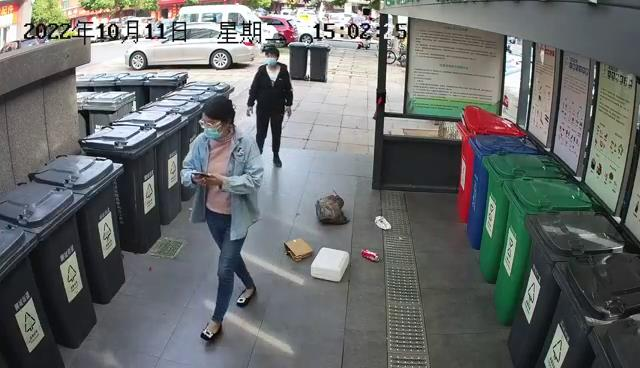lvzhipin: (360, 247, 380, 264), (374, 214, 392, 232)
paomozhipin: (310, 245, 349, 285)
person: (246, 45, 294, 167)
suliaozhipin: (315, 191, 350, 226)
worker: (179, 95, 264, 342)
zhizhipin: (283, 238, 314, 264)
